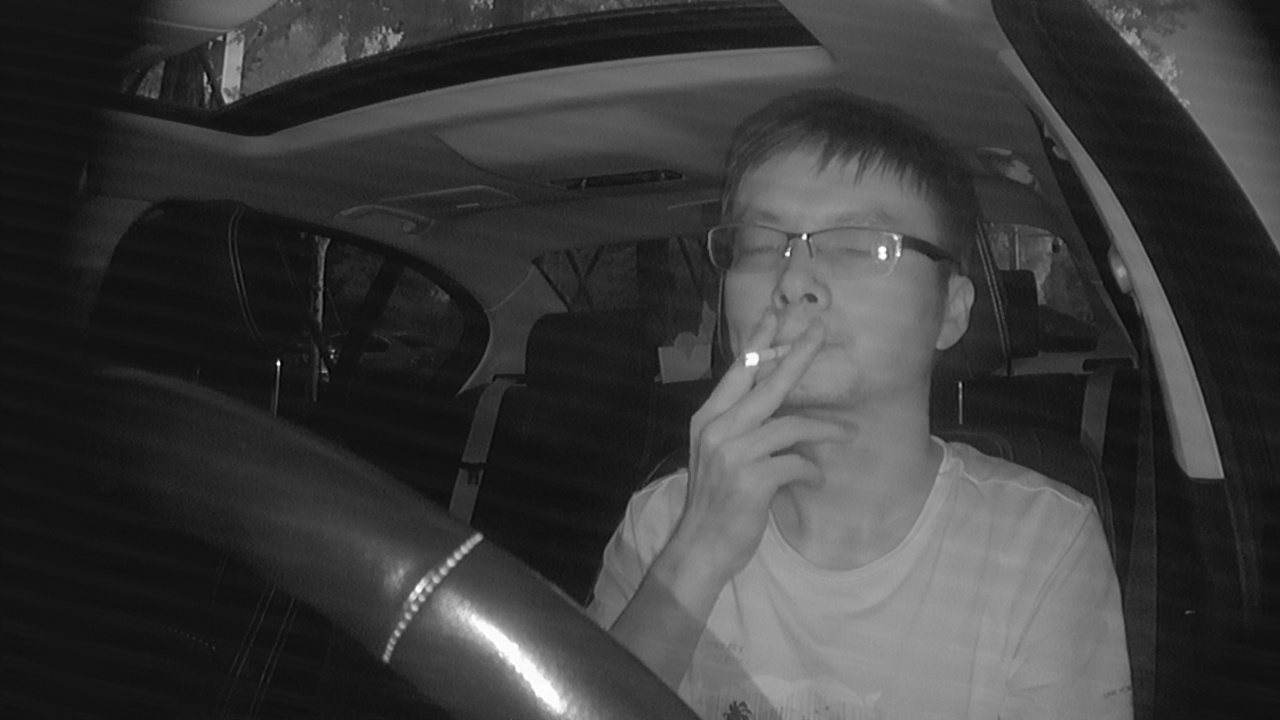hand: (679, 311, 844, 510)
